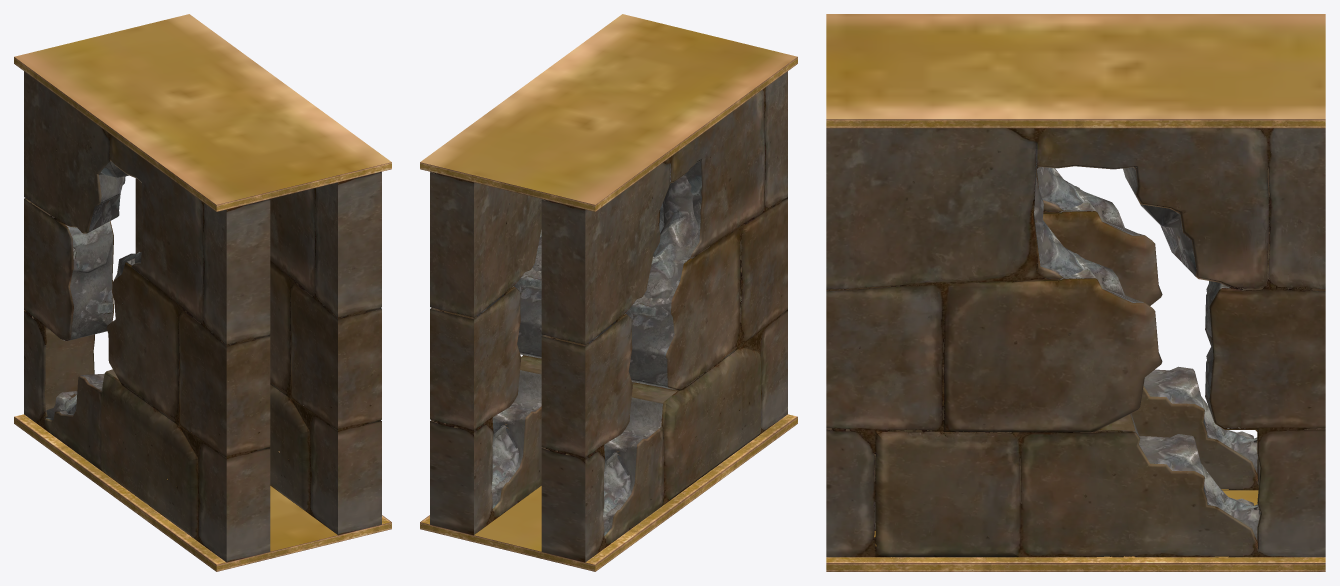
3 views of the same model, side by side, from view 1: azimuth 30°, elevation 25°; view 2: azimuth 150°, elevation 25°; view 3: azimuth 270°, elevation 25° (orthographic). The views are drawn at different scales.
Parts seen in each view (by area): view 1: SM_Vault_4x4_Dmg_Wall_01_BREAKABLE_LOD0; view 2: SM_Vault_4x4_Dmg_Wall_01_BREAKABLE_LOD0; view 3: SM_Vault_4x4_Dmg_Wall_01_BREAKABLE_LOD0.
Part boxes in pixels (x1,y1,x2,y2): SM_Vault_4x4_Dmg_Wall_01_BREAKABLE_LOD0: (14, 14, 391, 571); SM_Vault_4x4_Dmg_Wall_01_BREAKABLE_LOD0: (420, 14, 797, 571); SM_Vault_4x4_Dmg_Wall_01_BREAKABLE_LOD0: (826, 14, 1325, 571).
Size of the model in its own units: 2 by 4 by 4.
Materials: 3 (3 with a texture image).
